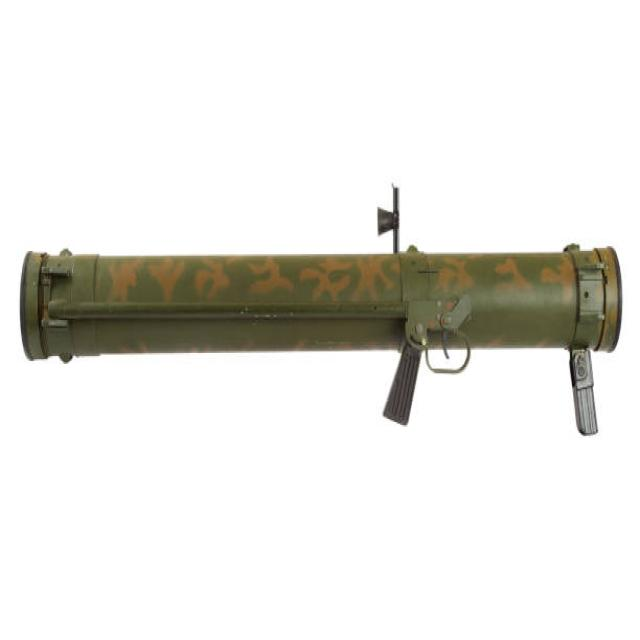bazooka: (13, 168, 629, 446)
